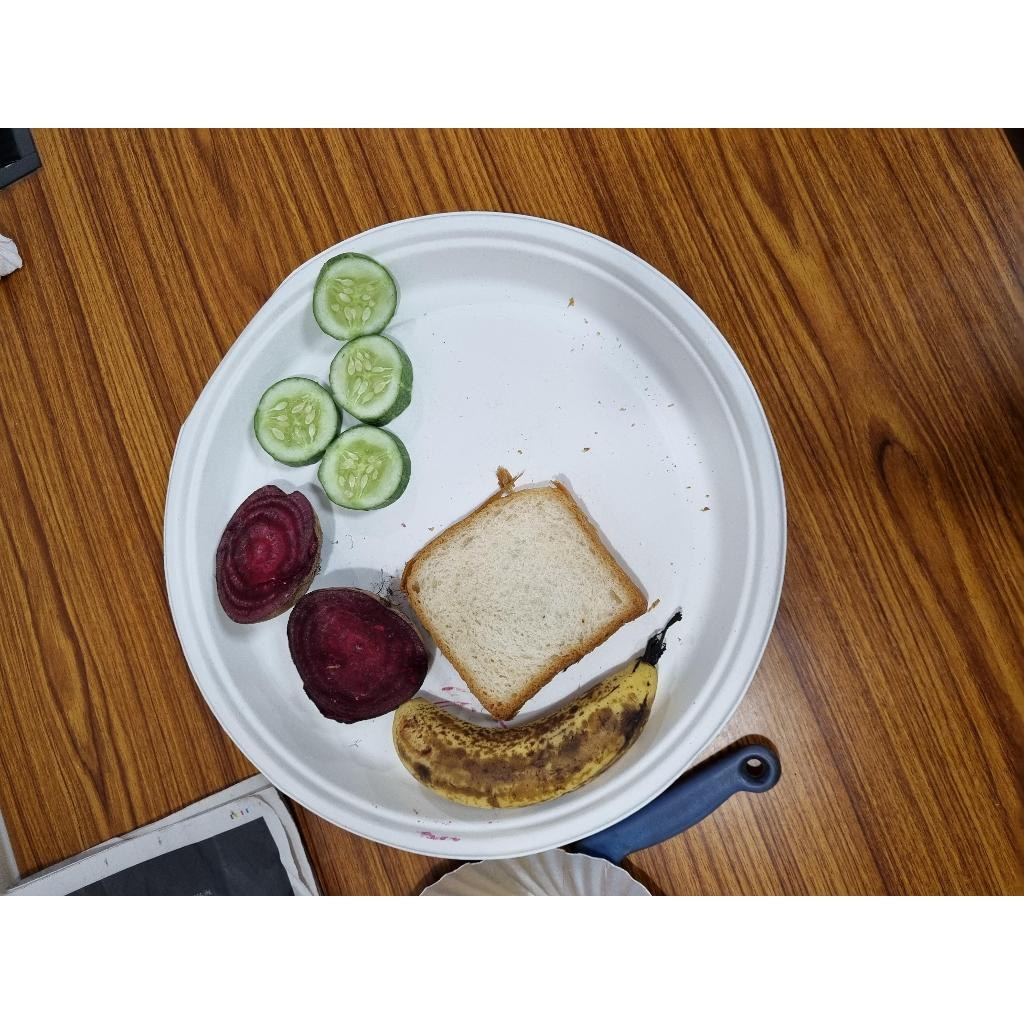banana: (393, 657, 657, 808)
cucumber: (318, 425, 410, 510), (254, 377, 340, 466), (329, 335, 413, 426), (313, 252, 397, 340)
